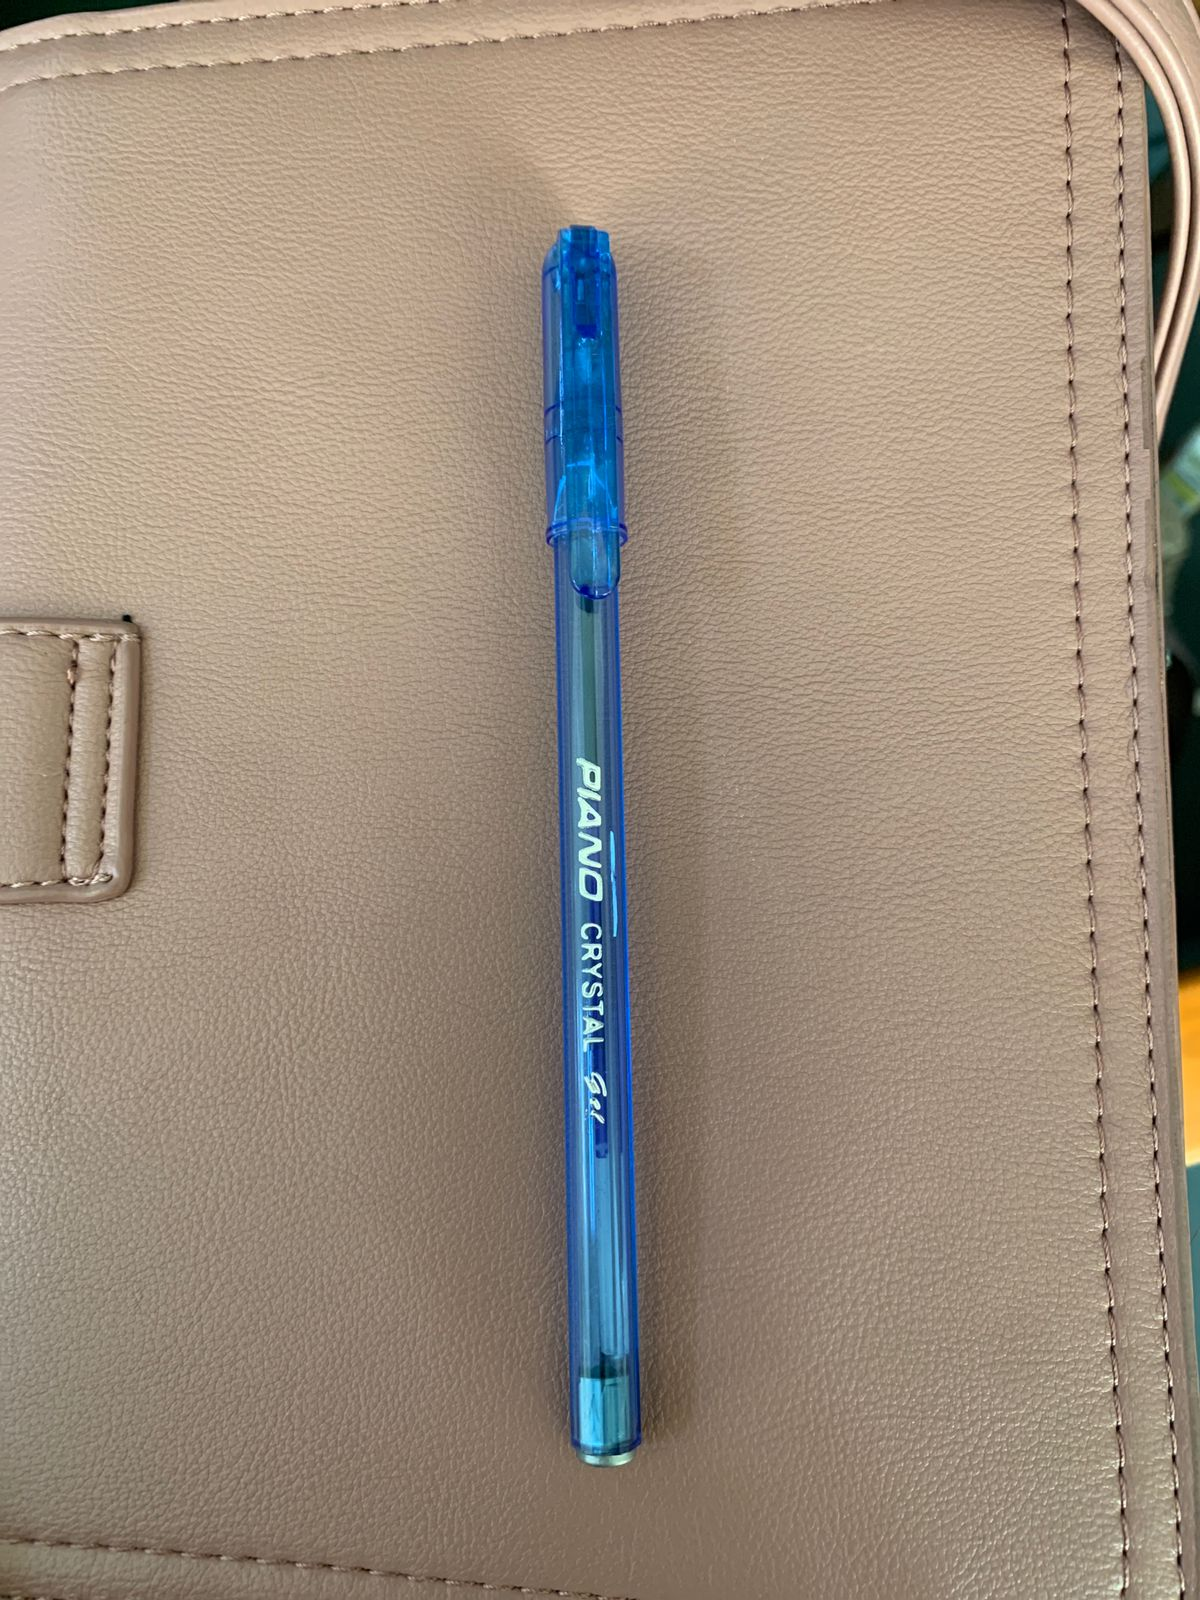pen: (350, 155, 845, 1529)
